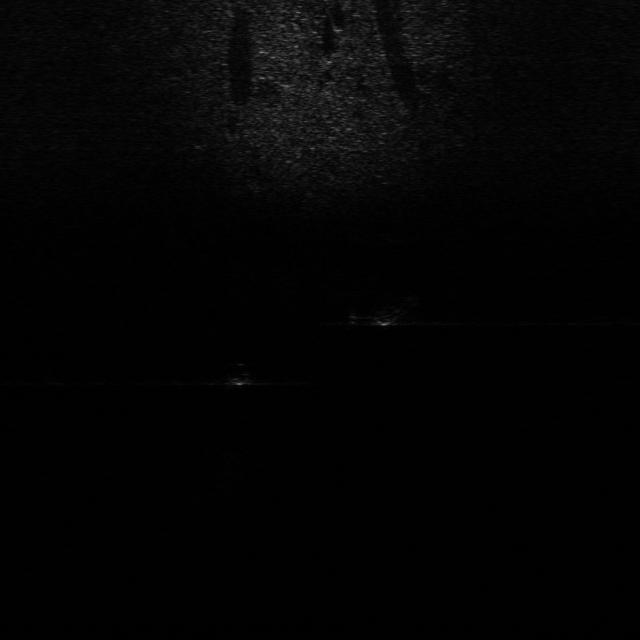ball: (218, 360, 256, 390)
human body: (348, 290, 431, 331)
